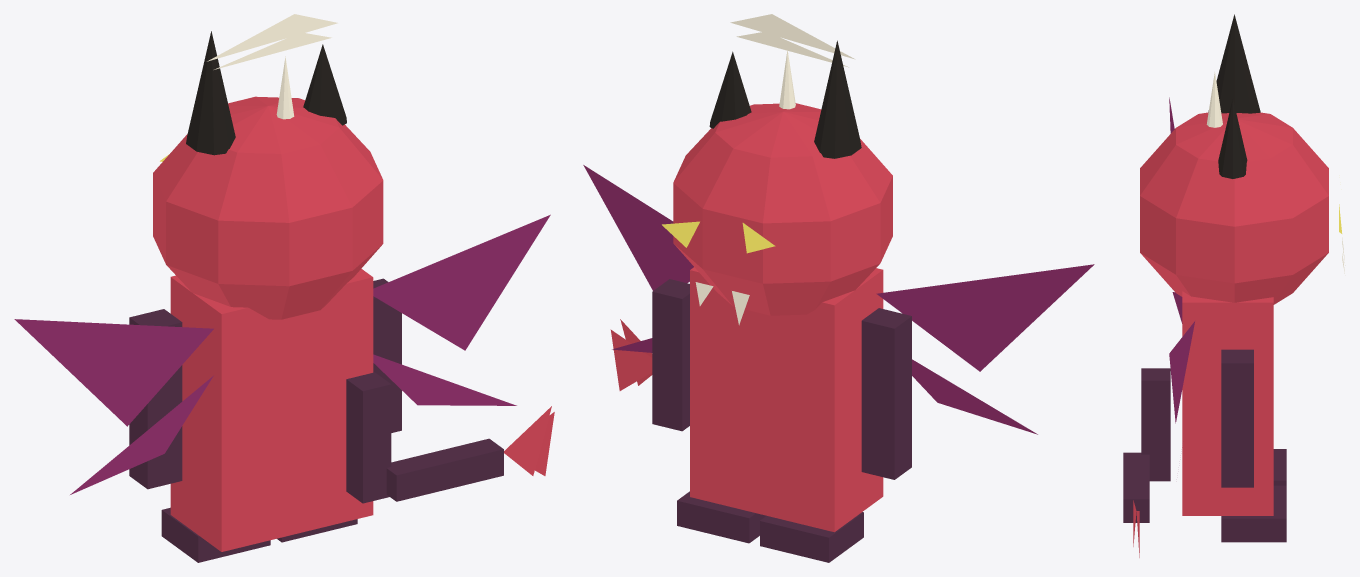
The model's file is grotesque_imp.glb.
3 views of the same model, side by side, from view 1: azimuth 30°, elevation 25°; view 2: azimuth 150°, elevation 25°; view 3: azimuth 270°, elevation 25° (orthographic). The views are drawn at different scales.
Visible parts, largest first — view 1: hunched_body, lumpy_head, ragged_left_wing, ragged_right_wing, kinked_tail_a, kinked_tail_b, thin_left_arm, left_crooked_horn, broken_halo, thin_right_arm, tail_spade, left_foot (+1 smaller); view 2: hunched_body, lumpy_head, ragged_left_wing, thin_left_arm, thin_right_arm, ragged_right_wing, left_foot, left_crooked_horn, right_foot, broken_halo, tail_spade, right_stub_horn (+1 smaller); view 3: lumpy_head, hunched_body, thin_right_arm, kinked_tail_a, left_crooked_horn, right_foot, kinked_tail_b, right_stub_horn, ragged_right_wing, left_foot, cracked_halo_post.
Part boxes in pixels (bbox=[...]): hunched_body: bbox=[170, 269, 373, 551]; lumpy_head: bbox=[153, 96, 383, 319]; ragged_left_wing: bbox=[14, 319, 213, 494]; ragged_right_wing: bbox=[373, 214, 550, 405]; kinked_tail_a: bbox=[346, 372, 391, 503]; kinked_tail_b: bbox=[386, 438, 503, 501]; thin_left_arm: bbox=[129, 309, 182, 489]; left_crooked_horn: bbox=[186, 31, 235, 155]; broken_halo: bbox=[207, 14, 337, 69]; thin_right_arm: bbox=[373, 278, 401, 432]; tail_spade: bbox=[504, 406, 554, 475]; left_foot: bbox=[161, 507, 270, 562]; hunched_body: bbox=[690, 267, 883, 532]; lumpy_head: bbox=[673, 103, 892, 315]; ragged_left_wing: bbox=[876, 264, 1094, 434]; thin_left_arm: bbox=[861, 308, 911, 479]; thin_right_arm: bbox=[652, 279, 689, 431]; ragged_right_wing: bbox=[583, 165, 693, 352]; left_foot: bbox=[760, 512, 863, 562]; left_crooked_horn: bbox=[814, 40, 861, 158]; right_foot: bbox=[677, 491, 766, 543]; broken_halo: bbox=[730, 14, 855, 67]; tail_spade: bbox=[610, 319, 652, 390]; right_stub_horn: bbox=[709, 51, 751, 128]; lumpy_head: bbox=[1140, 112, 1328, 304]; hunched_body: bbox=[1182, 291, 1273, 515]; thin_right_arm: bbox=[1221, 349, 1253, 487]; kinked_tail_a: bbox=[1141, 368, 1170, 481]; left_crooked_horn: bbox=[1208, 14, 1260, 113]; right_foot: bbox=[1221, 485, 1286, 542]; kinked_tail_b: bbox=[1123, 452, 1149, 522]; right_stub_horn: bbox=[1218, 98, 1247, 178]; ragged_right_wing: bbox=[1169, 321, 1194, 423]; left_foot: bbox=[1273, 449, 1286, 485]; cracked_halo_post: bbox=[1206, 72, 1222, 127].
Size of the model in its own units: 1.7 by 1.59 by 0.68.
